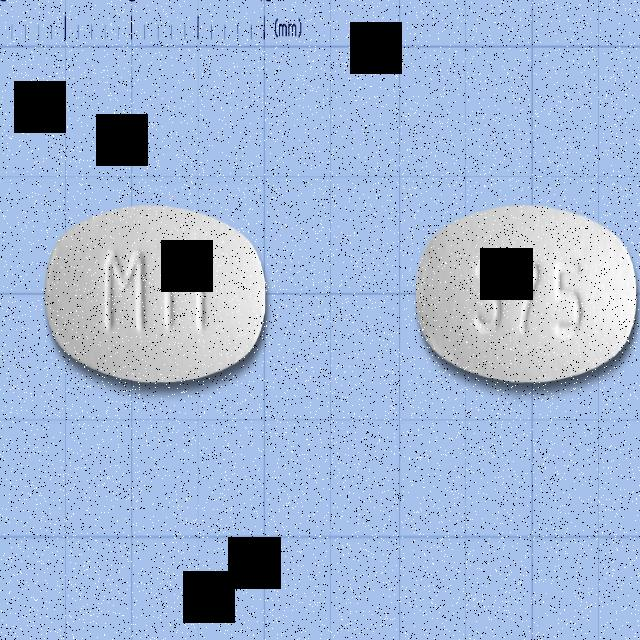Amoclan - Myungmoon: (43, 201, 269, 388), (416, 202, 639, 380)
